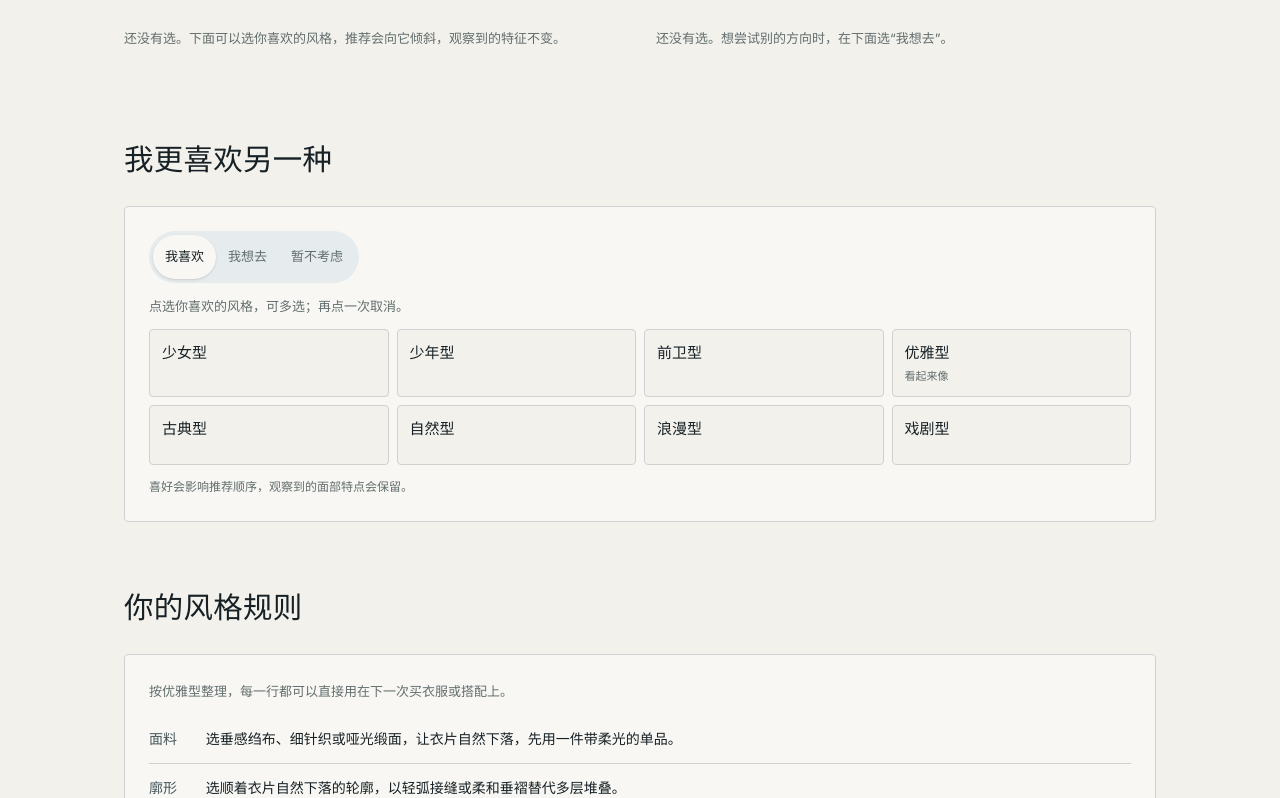
Test case: style page (A7 · F8) › liked styles show as the preference point
(page scrolled)
Step 1. Click the button "自然型" → {"x": 516, "y": 435}, box x1=396 y1=405 x2=636 y2=465
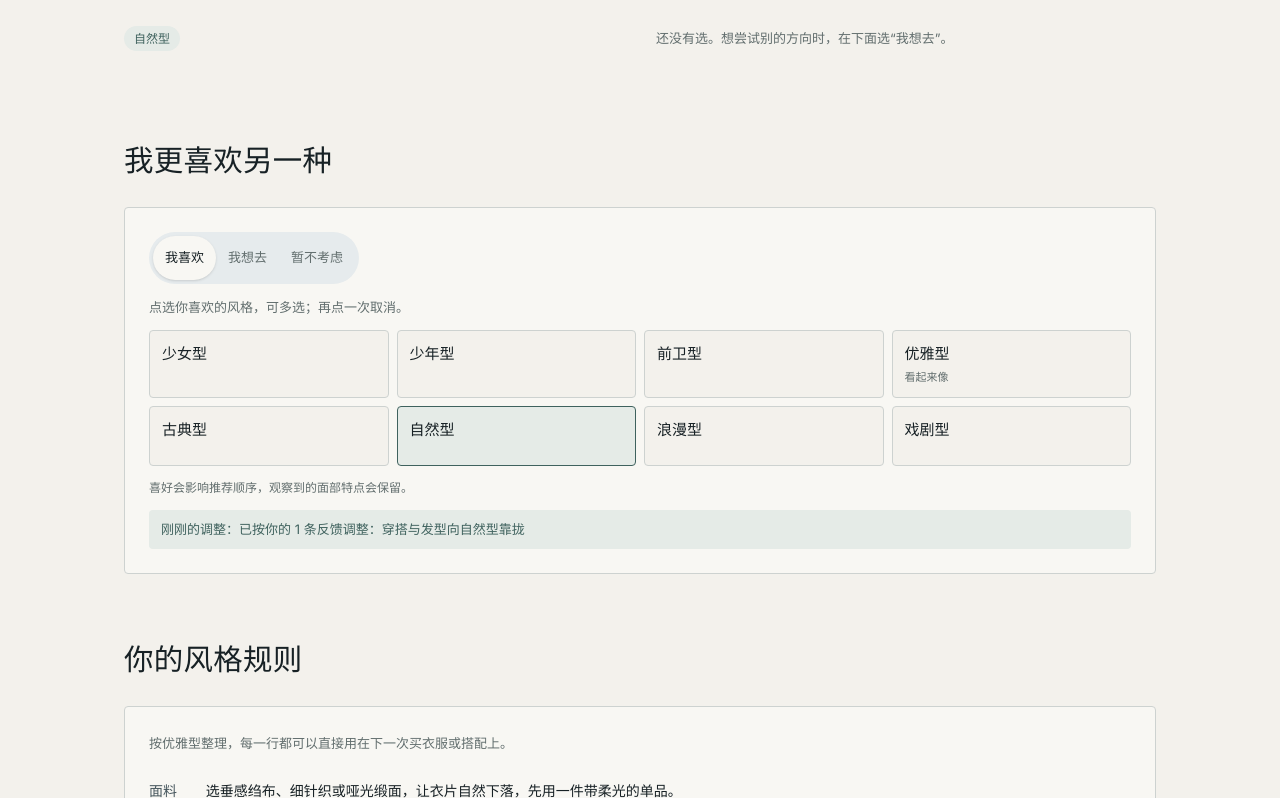
Now the text "自然型" below "你的偏好" is shown, box x1=134 y1=30 x2=170 y2=46
